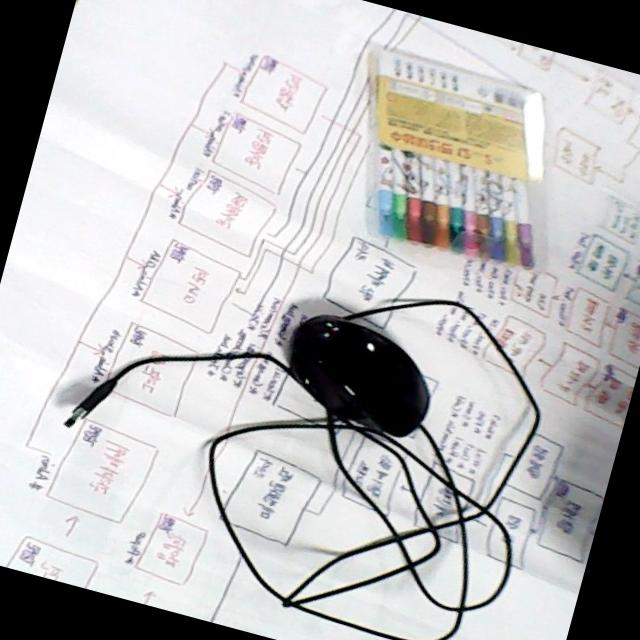mouse: (278, 307, 443, 443)
signpen: (361, 40, 550, 279)
